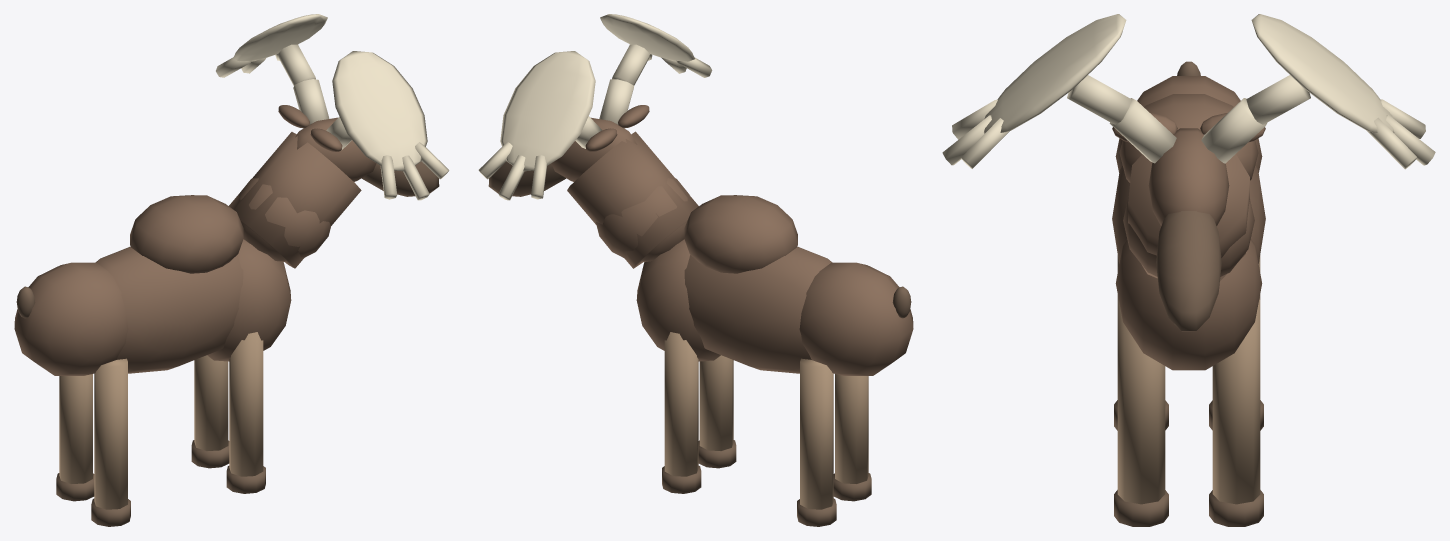
File: moose-01.glb
3 renders of one model, left to right at view 1: azimuth 30°, elevation 25°; view 2: azimuth 150°, elevation 25°; view 3: azimuth 270°, elevation 25°, orthographic. The views are drawn at different scales.
Parts seen in each view (by area): view 1: moose-01; view 2: moose-01; view 3: moose-01.
Part boxes in pixels (x1,y1,x2,y2): moose-01: (14,14,449,526); moose-01: (478,14,913,526); moose-01: (942,14,1435,526).
Bounding box in the file's own units: 2.75 × 2.6 × 2.06.
